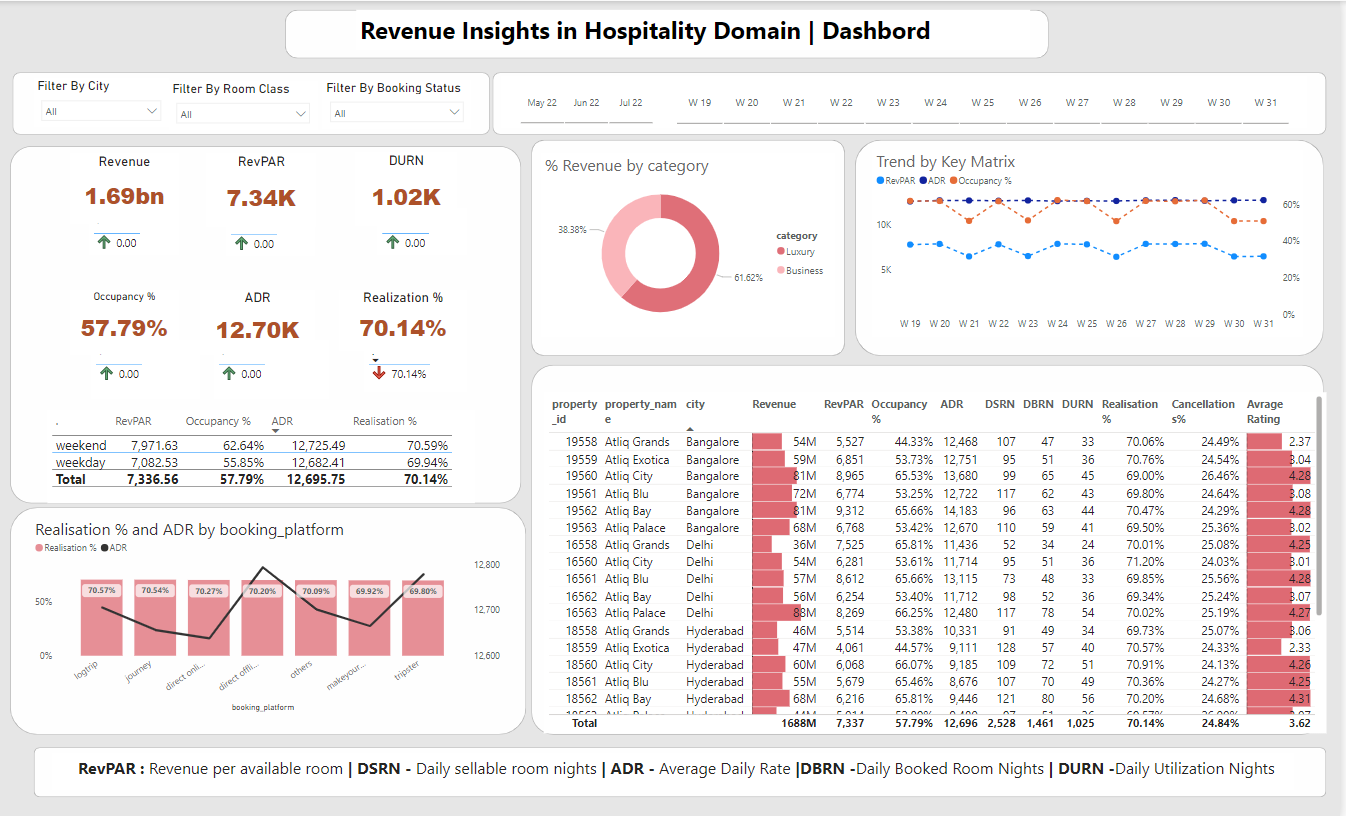

This screenshot's page, from the dashboard's own definition file:
{"tool":"powerbi","page":{"name":"Dashbord","canvas":[1800,1100],"ordinal":0},"visuals":[{"type":"shape","box":[13.4,680.4,693.8,305.7],"z":0},{"type":"shape","box":[1149.1,186.5,630,290.6],"z":1000},{"type":"shape","box":[714,488.9,1065.1,497.3],"z":2000},{"type":"shape","box":[714,186.5,421.7,290.6],"z":3000},{"type":"shape","box":[13.4,194.9,687.1,480.5],"z":4000},{"type":"shape","box":[662.6,95.4,1120.5,84],"z":5000},{"type":"shape","box":[16.8,95.8,641.7,84],"z":6000},{"type":"tableEx","fields":{"Values":["dim_hotels.property_id","dim_hotels.property_name","dim_hotels.city","key_mesures.Revenue","key_mesures.RevPAR","key_mesures.Occupancy %","key_mesures.ADR","key_mesures.DSRN","key_mesures.DBRN","key_mesures.DURN","key_mesures.Realisation %","key_mesures.Cancellations%"]},"box":[730.8,525.8,1051.6,458.6],"z":7000},{"type":"slicer","title":"Filter By City","fields":{"Values":["dim_hotels.city"]},"box":[46,103.8,181.4,65.5],"z":8000},{"type":"slicer","title":"Filter By Room Class","fields":{"Values":["dim_rooms.room_class"]},"box":[226.8,107.5,199.9,65.5],"z":9000},{"type":"slicer","fields":{"Values":["dim_date.mmm yy"]},"box":[673.6,100.8,226.8,70.6],"z":10000},{"type":"slicer","title":"Week No","fields":{"Values":["dim_date.week no"]},"box":[883.9,100.9,872.4,70.7],"z":11000},{"type":"lineChart","title":"Trend by Key Matrix","fields":{"Category":["dim_date.mmm yy.Variation.Date Hierarchy.Month","dim_date.week no"],"Y":["key_mesures.RevPAR","key_mesures.ADR"],"Y2":["key_mesures.Occupancy %"]},"box":[1172.6,199.9,579.6,252],"z":12000},{"type":"donutChart","title":"% Revenue by category","fields":{"Category":["dim_hotels.category"],"Y":["key_mesures.Revenue"]},"box":[727.4,204.9,394.8,246.9],"z":13000},{"type":"lineStackedColumnComboChart","fields":{"Category":["fact_bookings.booking_platform"],"Y":["key_mesures.Realisation %"],"Y2":["key_mesures.ADR"]},"box":[42,693.8,635,267.1],"z":14000},{"type":"tableEx","fields":{"Values":["key_mesures.Revpar WoW change %"]},"box":[304.1,280.5,119.3,62.2],"z":15000},{"type":"tableEx","fields":{"Values":["key_mesures.Occupancy WoW change %"]},"box":[122.6,455.3,146.2,79],"z":15500},{"type":"tableEx","fields":{"Values":["key_mesures.Revpar WoW change %"]},"box":[507.3,278.9,121,62.2],"z":16000},{"type":"tableEx","fields":{"Values":["key_mesures.ADR WoW change %"]},"box":[287.3,455.3,154.6,79],"z":18000},{"type":"card","title":"DURN","fields":{"Values":["key_mesures.DURN"]},"box":[477.1,203.3,137.8,99.1],"z":19000},{"type":"tableEx","fields":{"Values":["key_mesures.Revpar WoW change %"]},"box":[119.3,278.9,121,62.2],"z":21000},{"type":"card","title":"Revenue","fields":{"Values":["key_mesures.Revenue"]},"box":[94.1,204.9,146.2,94.1],"z":22000},{"type":"card","title":"ADR","fields":{"Values":["key_mesures.ADR"]},"box":[268.8,388.1,154.6,87.4],"z":23000},{"type":"card","title":"Occupancy %","fields":{"Values":["key_mesures.Occupancy %"]},"box":[94.1,388.1,146.2,87.4],"z":24000},{"type":"card","title":"Realization %","fields":{"Values":["key_mesures.Realisation %"]},"box":[455.3,388.1,173,82.3],"z":24500},{"type":"tableEx","fields":{"Values":["key_mesures.Realisation %"]},"box":[488.9,455.3,139.4,70.6],"z":25000},{"type":"shape","box":[383,12.4,1026.4,65.5],"z":27000},{"type":"tableEx","fields":{"Values":["dim_date.day_type","key_mesures.RevPAR","key_mesures.Occupancy %","key_mesures.ADR","key_mesures.Realisation %"]},"box":[63.8,549.3,574.5,126],"z":28000},{"type":"shape","box":[45.4,1002.9,1737,67.2],"z":29000},{"type":"textbox","box":[70.6,1011.3,1668.2,48.7],"z":30000},{"type":"textbox","box":[478.8,12.4,905.5,53.8],"z":31000},{"type":"slicer","title":"Filter By Booking Status","fields":{"Values":["fact_bookings.booking_status"]},"box":[433.4,105.8,199.9,65.5],"z":32000},{"type":"card","title":"RevPAR","fields":{"Values":["key_mesures.RevPAR"]},"box":[277.2,204.9,147.8,99.1],"z":32500}]}

Visuals, with their boxes in screenshot pixels (x1, y1, x2, y2), scaled from the page's 1800x1100 canvas onto the 1346x816 screenshot:
shape: bbox(10, 505, 529, 732)
shape: bbox(859, 138, 1330, 354)
shape: bbox(534, 363, 1330, 732)
shape: bbox(534, 138, 849, 354)
shape: bbox(10, 145, 524, 501)
shape: bbox(495, 71, 1333, 133)
shape: bbox(13, 71, 492, 133)
tableEx - dim_hotels.property_id x dim_hotels.property_name: bbox(546, 390, 1333, 730)
"Filter By City" slicer: bbox(34, 77, 170, 126)
"Filter By Room Class" slicer: bbox(170, 80, 319, 128)
slicer - dim_date.mmm yy: bbox(504, 75, 673, 127)
"Week No" slicer: bbox(661, 75, 1313, 127)
"Trend by Key Matrix" lineChart: bbox(877, 148, 1310, 335)
"% Revenue by category" donutChart: bbox(544, 152, 839, 335)
lineStackedColumnComboChart - fact_bookings.booking_platform x key_mesures.Realisation %: bbox(31, 515, 506, 713)
tableEx - key_mesures.Revpar WoW change %: bbox(227, 208, 317, 254)
tableEx - key_mesures.Occupancy WoW change %: bbox(92, 338, 201, 396)
tableEx - key_mesures.Revpar WoW change %: bbox(379, 207, 470, 253)
tableEx - key_mesures.ADR WoW change %: bbox(215, 338, 330, 396)
"DURN" card: bbox(357, 151, 460, 224)
tableEx - key_mesures.Revpar WoW change %: bbox(89, 207, 180, 253)
"Revenue" card: bbox(70, 152, 180, 222)
"ADR" card: bbox(201, 288, 317, 353)
"Occupancy %" card: bbox(70, 288, 180, 353)
"Realization %" card: bbox(340, 288, 470, 349)
tableEx - key_mesures.Realisation %: bbox(366, 338, 470, 390)
shape: bbox(286, 9, 1054, 58)
tableEx - dim_date.day_type x key_mesures.RevPAR: bbox(48, 407, 477, 501)
shape: bbox(34, 744, 1333, 794)
textbox: bbox(53, 750, 1300, 786)
textbox: bbox(358, 9, 1035, 49)
"Filter By Booking Status" slicer: bbox(324, 78, 474, 127)
"RevPAR" card: bbox(207, 152, 318, 226)
